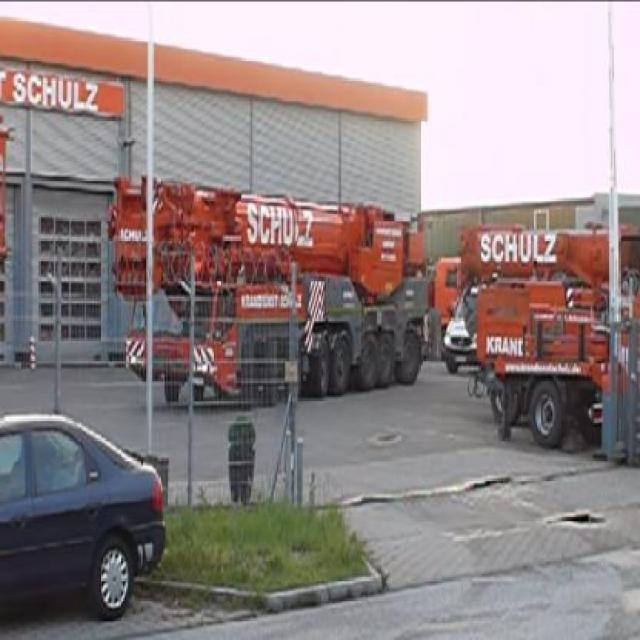Mobile Crane: (109, 178, 429, 400), (457, 220, 638, 451)
